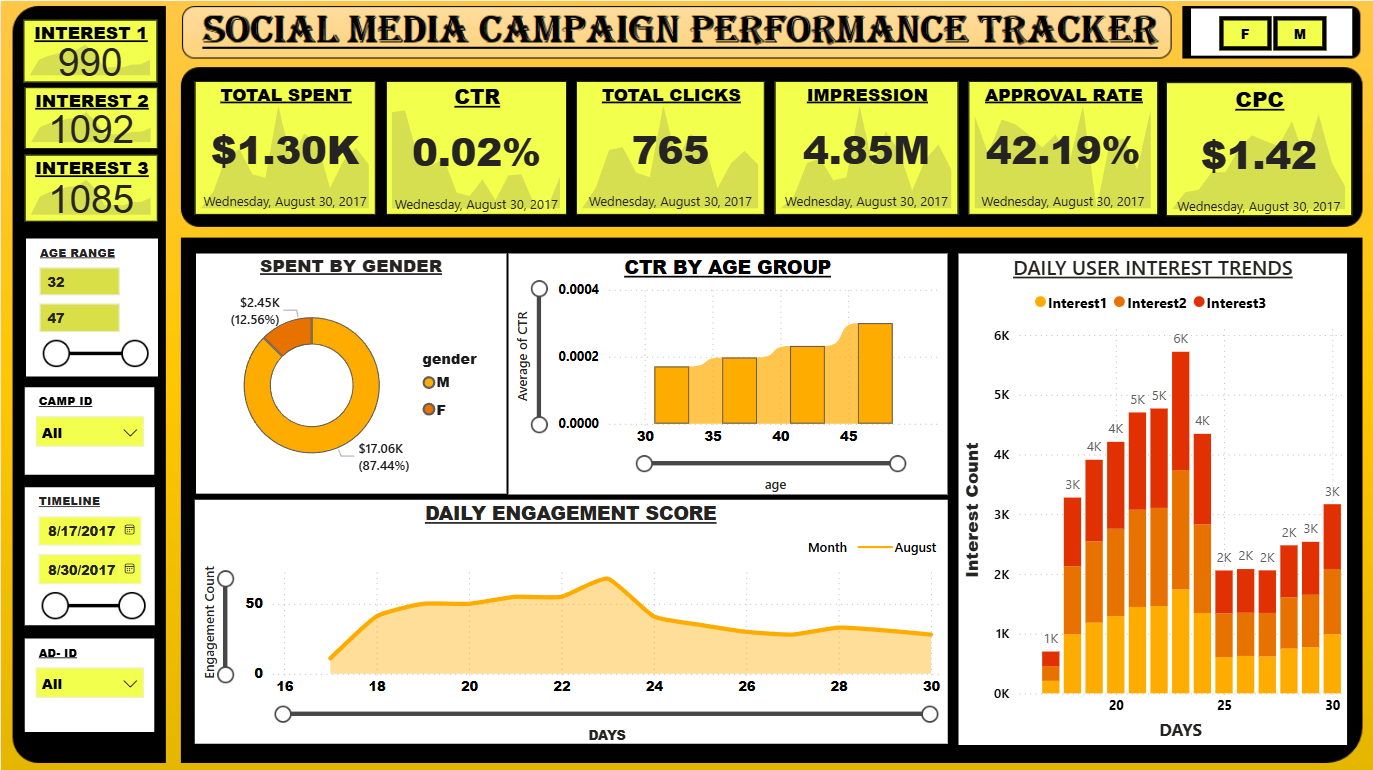

This screenshot's page, from the dashboard's own definition file:
{"tool":"powerbi","page":{"name":"Page 1","canvas":[1280,720],"ordinal":0},"visuals":[{"type":"slicer","title":"GENDER","fields":{"Values":["data.gender"]},"box":[1110,7.5,150,43.8],"z":0},{"type":"kpi","title":"TOTAL SPENT","fields":{"Indicator":["Sum(data.spent)"],"TrendLine":["data.reporting_end"]},"box":[181.2,75,168.8,125],"z":1000},{"type":"kpi","title":"CTR","fields":{"TrendLine":["data.reporting_end"],"Indicator":["data.CTRM"]},"box":[358.8,75,168.8,125],"z":2000},{"type":"kpi","title":"TOTAL CLICKS","fields":{"TrendLine":["data.reporting_end"],"Indicator":["Sum(data.clicks)"]},"box":[536.2,75,176.2,125],"z":3000},{"type":"kpi","title":"APPROVAL RATE","fields":{"TrendLine":["data.reporting_end"],"Indicator":["Avg(data.approval_rate)"]},"box":[902.9,75,176.4,125],"z":4000},{"type":"kpi","title":"IMPRESSION","fields":{"TrendLine":["data.reporting_end"],"Indicator":["Sum(data.impressions)"]},"box":[721.2,75,171.2,125],"z":5000},{"type":"kpi","title":"CPC","fields":{"TrendLine":["data.reporting_end"],"Indicator":["Avg(data.CPC)"]},"box":[1086.5,75.3,173.5,124.7],"z":6000},{"type":"slicer","fields":{"Values":["data.age"]},"box":[22.8,221.7,122.8,128.3],"z":7000},{"type":"slicer","fields":{"Values":["data.campaign_id"]},"box":[21.7,360,121.1,81.7],"z":8000},{"type":"slicer","fields":{"Values":["data.reporting_start"]},"box":[21.7,453.9,121.1,128.3],"z":9000},{"type":"slicer","fields":{"Values":["data.ad_id"]},"box":[21.7,595,121.1,87.2],"z":10000},{"type":"kpi","title":"INTEREST 1","fields":{"TrendLine":["data.reporting_end"],"Indicator":["Sum(data.interest1)"]},"box":[21.1,17.2,124.4,58.3],"z":11000},{"type":"kpi","title":"INTEREST 2","fields":{"TrendLine":["data.reporting_end"],"Indicator":["Sum(data.interest2)"]},"box":[21.7,80,123.9,57.8],"z":12000},{"type":"kpi","title":"INTEREST 3","fields":{"TrendLine":["data.reporting_end"],"Indicator":["Sum(data.interest3)"]},"box":[21.7,143.9,123.9,62.2],"z":13000},{"type":"ribbonChart","title":"CTR BY AGE GROUP","fields":{"Category":["data.age"],"Y":["Avg(data.CTR)"]},"box":[473.8,235,408.8,223.8],"z":14000},{"type":"donutChart","title":"SPENT BY GENDER","fields":{"Category":["data.gender"],"Y":["Sum(data.spent)"]},"box":[181.5,235.4,289.2,223.8],"z":15000},{"type":"lineChart","title":"DAILY ENGAGEMENT SCORE","fields":{"Category":["data.reporting_start.Variation.Date Hierarchy.Day"],"Y":["CountNonNull(data.engagement_score)"],"Series":["data.Month Name"]},"box":[181.2,465,701.2,227.5],"z":16000},{"type":"columnChart","title":"DAILY USER INTEREST TRENDS","fields":{"Category":["data.reporting_start.Variation.Date Hierarchy.Day"],"Y":["Sum(data.interest1)","Sum(data.interest2)","Sum(data.interest3)"]},"box":[892.5,235,362.5,458.8],"z":17000}]}

Visuals, with their boxes in screenshot pixels (x1, y1, x2, y2), scaled from the page's 1280x720 canvas onto the 1373x770 screenshot:
"GENDER" slicer: detection(1191, 8, 1352, 55)
"TOTAL SPENT" kpi: detection(194, 80, 375, 214)
"CTR" kpi: detection(385, 80, 566, 214)
"TOTAL CLICKS" kpi: detection(575, 80, 764, 214)
"APPROVAL RATE" kpi: detection(969, 80, 1158, 214)
"IMPRESSION" kpi: detection(774, 80, 957, 214)
"CPC" kpi: detection(1165, 81, 1352, 214)
slicer - data.age: detection(24, 237, 156, 374)
slicer - data.campaign_id: detection(23, 385, 153, 472)
slicer - data.reporting_start: detection(23, 485, 153, 623)
slicer - data.ad_id: detection(23, 636, 153, 730)
"INTEREST 1" kpi: detection(23, 18, 156, 81)
"INTEREST 2" kpi: detection(23, 86, 156, 147)
"INTEREST 3" kpi: detection(23, 154, 156, 220)
"CTR BY AGE GROUP" ribbonChart: detection(508, 251, 947, 491)
"SPENT BY GENDER" donutChart: detection(195, 252, 505, 491)
"DAILY ENGAGEMENT SCORE" lineChart: detection(194, 497, 947, 741)
"DAILY USER INTEREST TRENDS" columnChart: detection(957, 251, 1346, 742)
